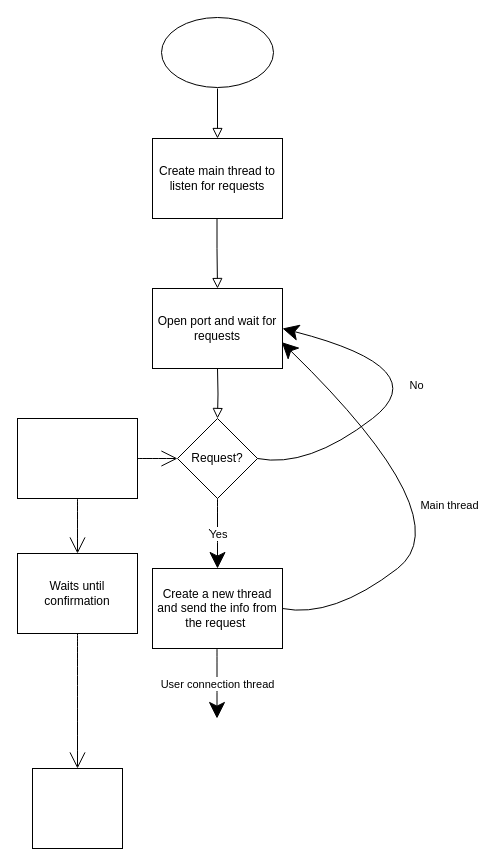
Some shapes in this 496 by 866 pixel diagram are drawn without their labels. Here are the shapes that lost their labels. From the top down, the box of each, then its label:
(160, 16, 274, 88): Server setup (py program)
(16, 418, 138, 498): User sends the request to connect to the server
(32, 768, 122, 848): Sends/receives messages
